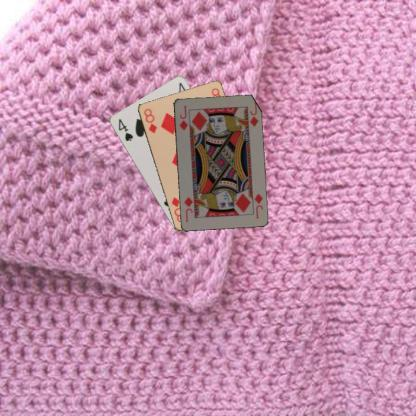4s: (116, 116, 134, 142)
8d: (141, 106, 158, 134)
Jd: (251, 191, 264, 220), (177, 103, 189, 132)
